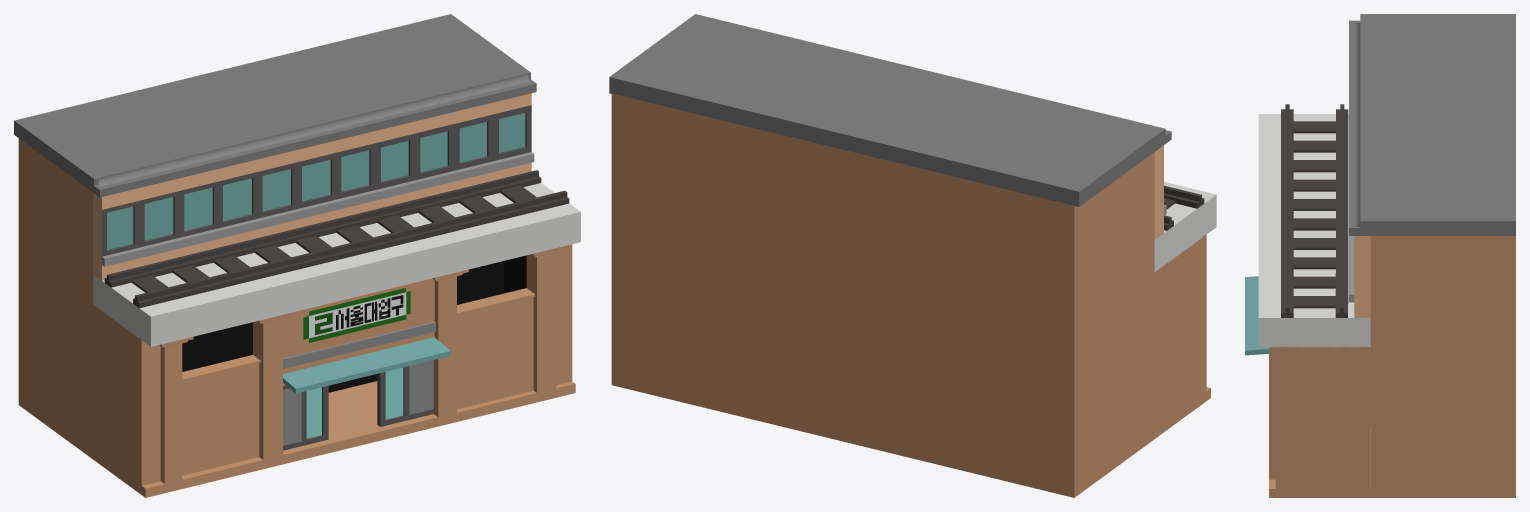
File: 기차지나가는 열린 서울대입구역.fbx
3 renders of one model, left to right at view 1: azimuth 30°, elevation 25°; view 2: azimuth 150°, elevation 25°; view 3: azimuth 270°, elevation 25°, orthographic. The views are drawn at different scales.
Parts seen in each view (by area): view 1: Box001; view 2: Box001; view 3: Box001.
Boxes of the visible parts, x1,y1,x2,y2 form: Box001: (14,14,580,497); Box001: (609,14,1216,497); Box001: (1245,14,1515,497).
Size of the model in its own units: 50.81 by 31.75 by 28.05.
Materials: 1 (1 with a texture image).
